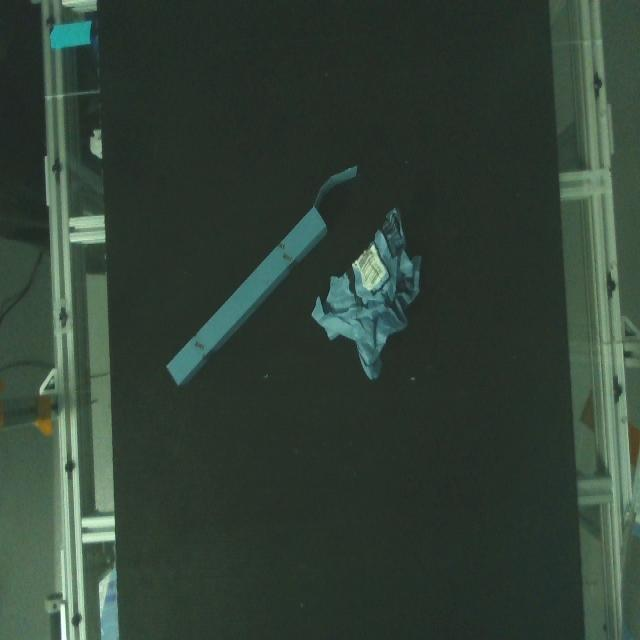paper: (162, 156, 368, 406), (309, 204, 436, 386)
